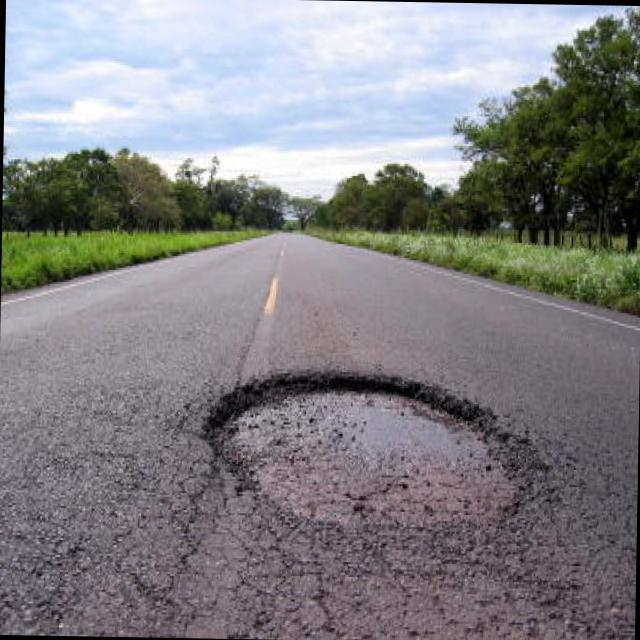Potholes: (150, 333, 540, 564)
